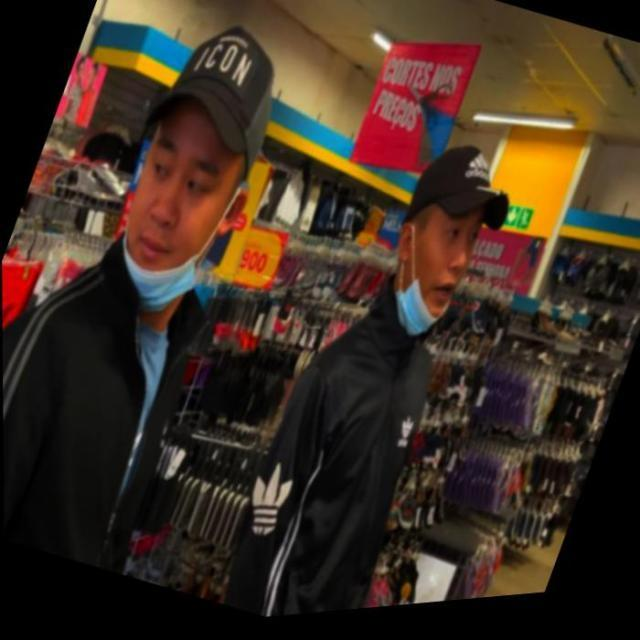hairnet: (95, 118, 248, 328), (384, 214, 479, 354)
